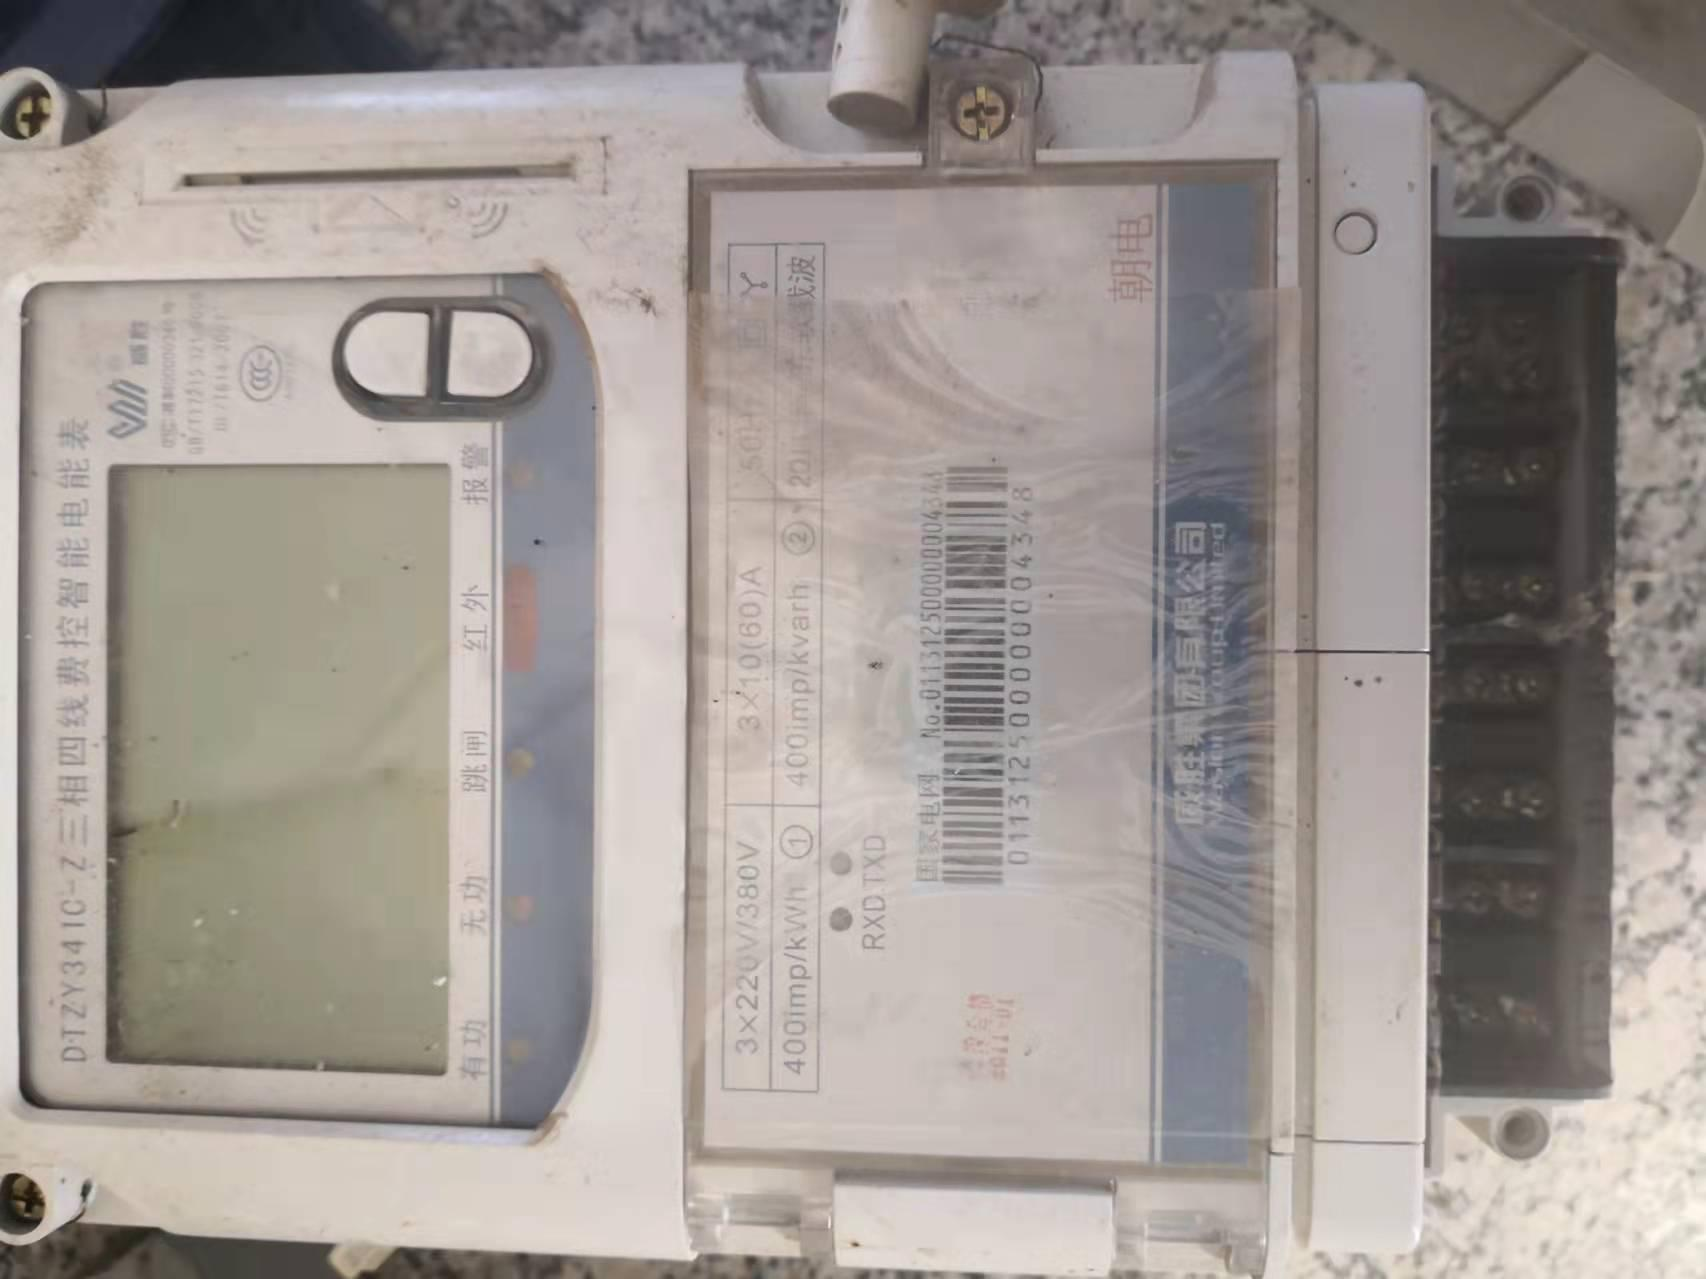digital: (7, 59, 1428, 1274)
